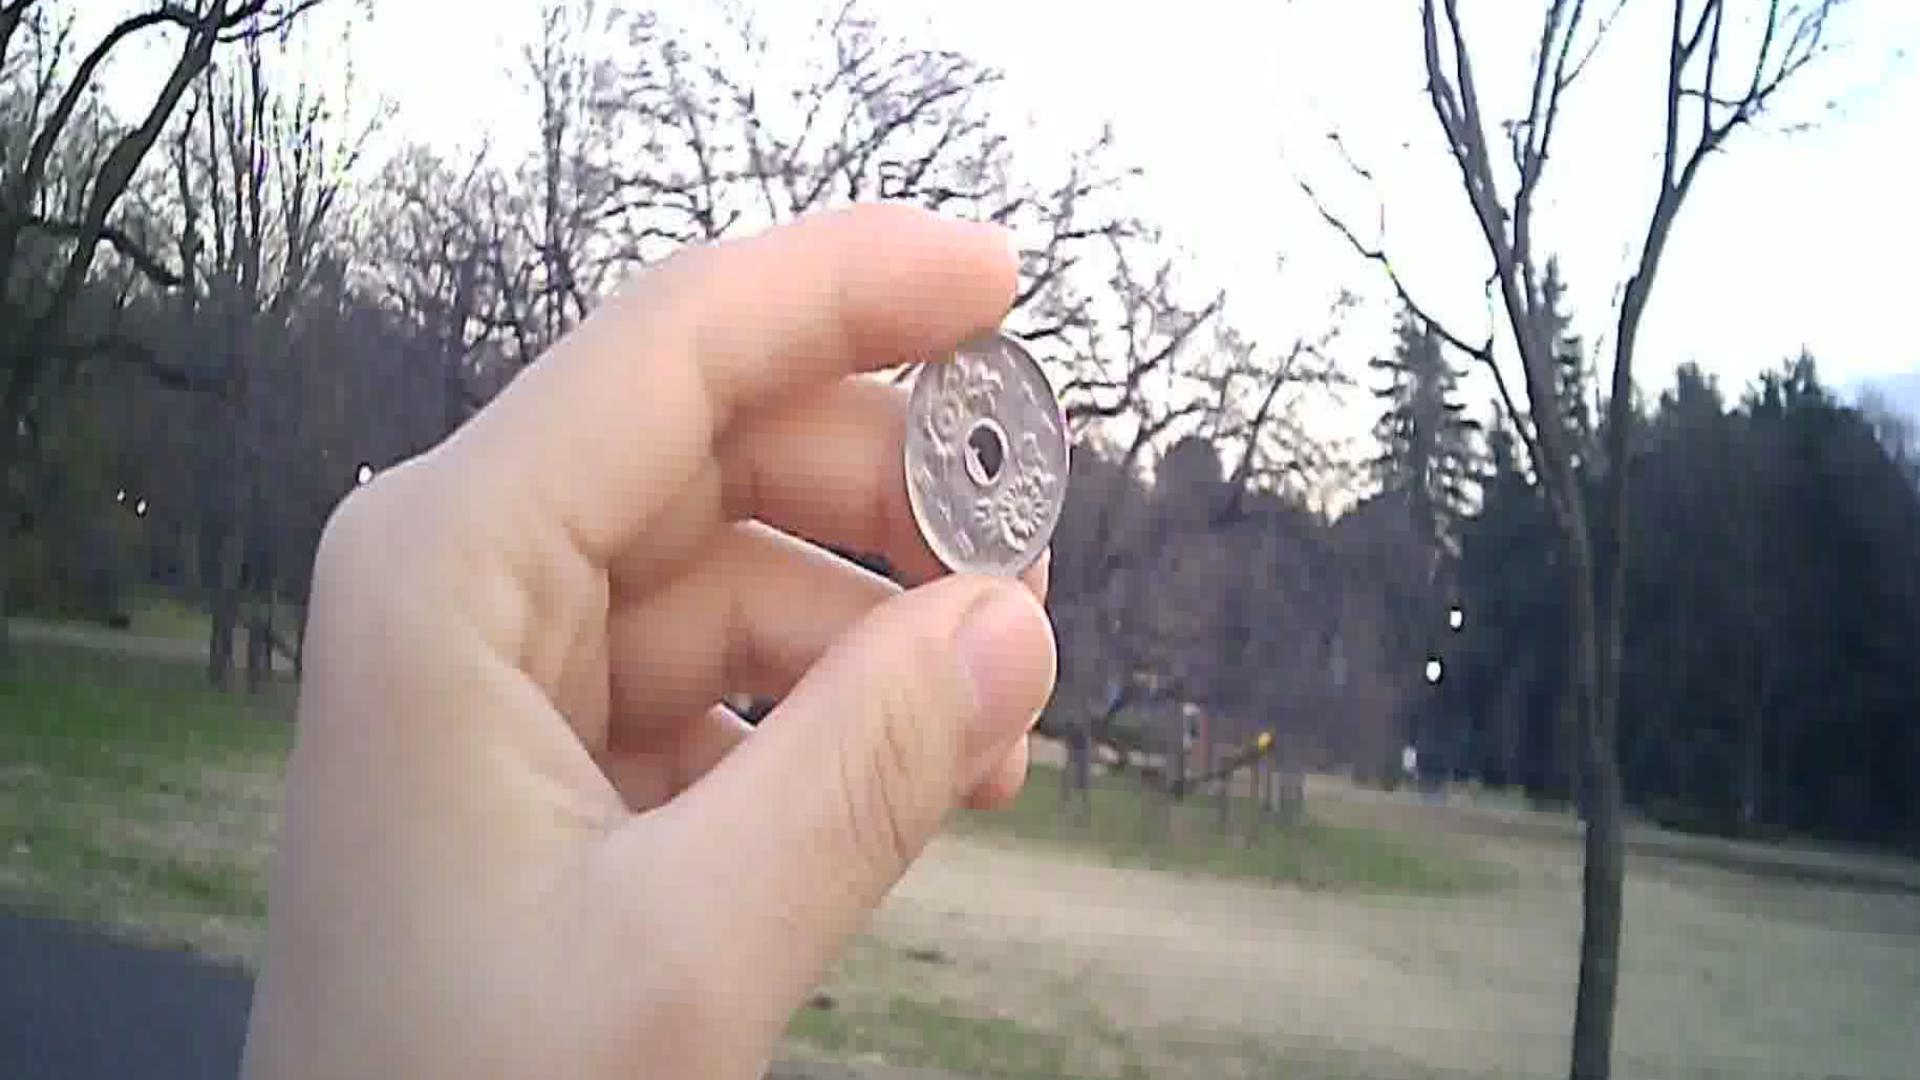50 Yen: (899, 306, 1069, 575)
